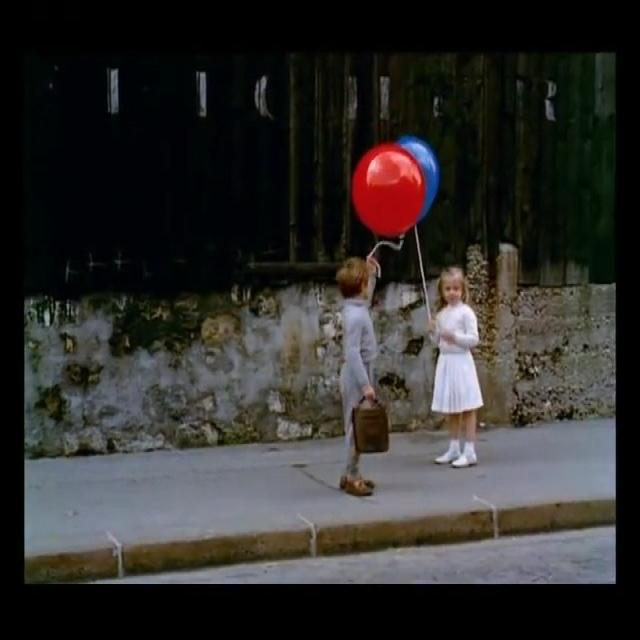balloon: (351, 141, 425, 239), (396, 133, 439, 224)
